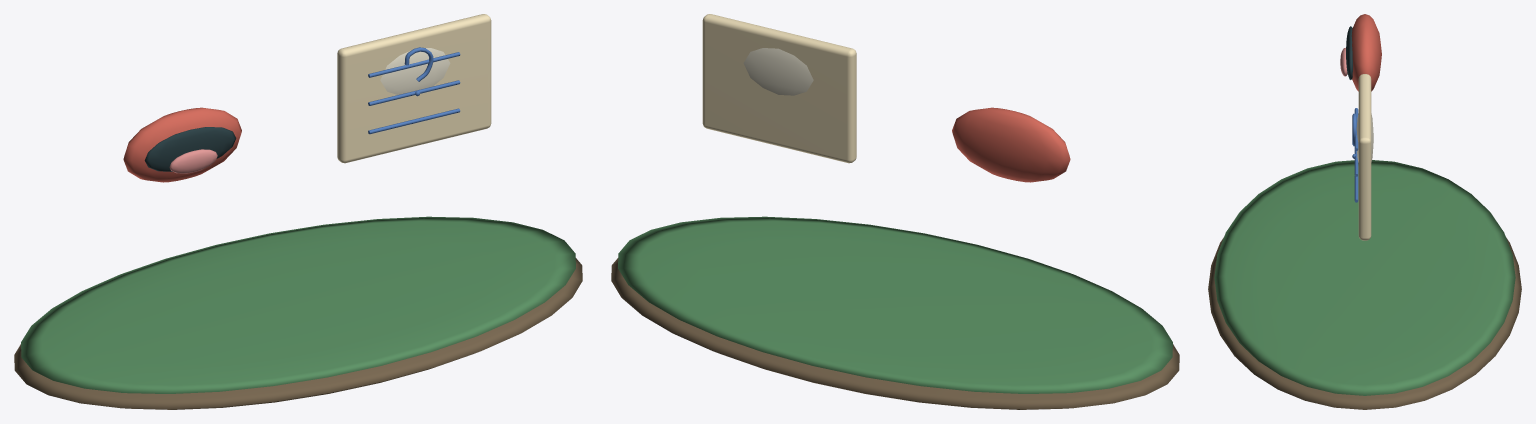
The model's file is complete-first-question-page.glb.
3 renders of one model, left to right at view 1: azimuth 30°, elevation 25°; view 2: azimuth 150°, elevation 25°; view 3: azimuth 270°, elevation 25°, orthographic. The views are drawn at different scales.
Visible parts, largest first — view 1: complete-first-question-page_surface_01, complete-first-question-page_surface_05, complete-first-question-page_surface_00, complete-first-question-page_surface_02, complete-first-question-page_surface_03, complete-first-question-page_surface_07, complete-first-question-page_surface_06, complete-first-question-page_surface_04; view 2: complete-first-question-page_surface_01, complete-first-question-page_surface_05, complete-first-question-page_surface_00, complete-first-question-page_surface_02, complete-first-question-page_surface_07; view 3: complete-first-question-page_surface_01, complete-first-question-page_surface_00, complete-first-question-page_surface_05, complete-first-question-page_surface_02, complete-first-question-page_surface_06, complete-first-question-page_surface_03.
Part boxes in pixels (x1=…): complete-first-question-page_surface_01: x1=21, y1=216, x2=575, y2=393; complete-first-question-page_surface_05: x1=337, y1=14, x2=491, y2=163; complete-first-question-page_surface_00: x1=14, y1=258, x2=582, y2=409; complete-first-question-page_surface_02: x1=123, y1=107, x2=241, y2=182; complete-first-question-page_surface_03: x1=144, y1=127, x2=236, y2=171; complete-first-question-page_surface_07: x1=380, y1=48, x2=450, y2=94; complete-first-question-page_surface_06: x1=368, y1=47, x2=460, y2=134; complete-first-question-page_surface_04: x1=169, y1=149, x2=217, y2=173; complete-first-question-page_surface_01: x1=618, y1=216, x2=1172, y2=393; complete-first-question-page_surface_05: x1=702, y1=14, x2=856, y2=163; complete-first-question-page_surface_00: x1=611, y1=258, x2=1179, y2=409; complete-first-question-page_surface_02: x1=952, y1=107, x2=1070, y2=182; complete-first-question-page_surface_07: x1=743, y1=48, x2=813, y2=95; complete-first-question-page_surface_01: x1=1214, y1=160, x2=1515, y2=395; complete-first-question-page_surface_00: x1=1208, y1=237, x2=1521, y2=409; complete-first-question-page_surface_05: x1=1358, y1=74, x2=1371, y2=240; complete-first-question-page_surface_02: x1=1351, y1=14, x2=1381, y2=91; complete-first-question-page_surface_06: x1=1352, y1=108, x2=1358, y2=202; complete-first-question-page_surface_03: x1=1346, y1=26, x2=1352, y2=79.
Size of the model in its own units: 4.56 by 2.19 by 2.5.
